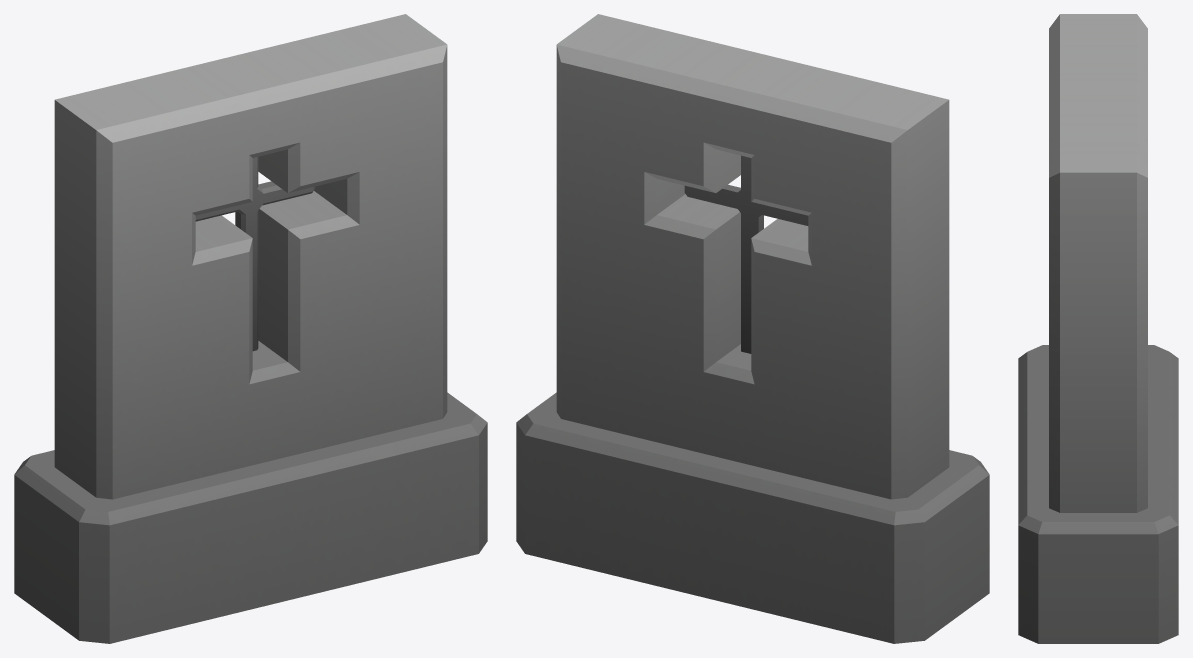
File: Tombstone2.fbx
The picture shows the model from 3 angles, left to right: view 1: azimuth 30°, elevation 25°; view 2: azimuth 150°, elevation 25°; view 3: azimuth 270°, elevation 25°; orthographic projection. The views are drawn at different scales.
Visible parts, largest first — view 1: Tombstone2; view 2: Tombstone2; view 3: Tombstone2.
Part boxes in pixels (x1,y1,x2,y2): Tombstone2: (14,14,487,643); Tombstone2: (516,14,989,643); Tombstone2: (1018,14,1178,643).
Size of the model in its own units: 1.16 by 1.35 by 0.4277.
Materials: 1 (1 with a texture image).
